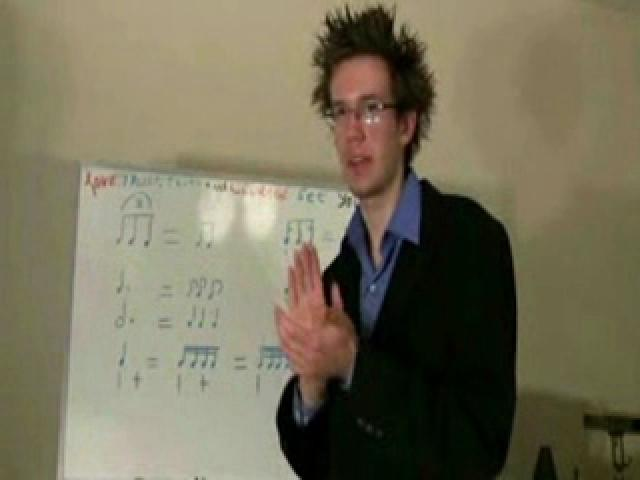F: (265, 3, 519, 476)
